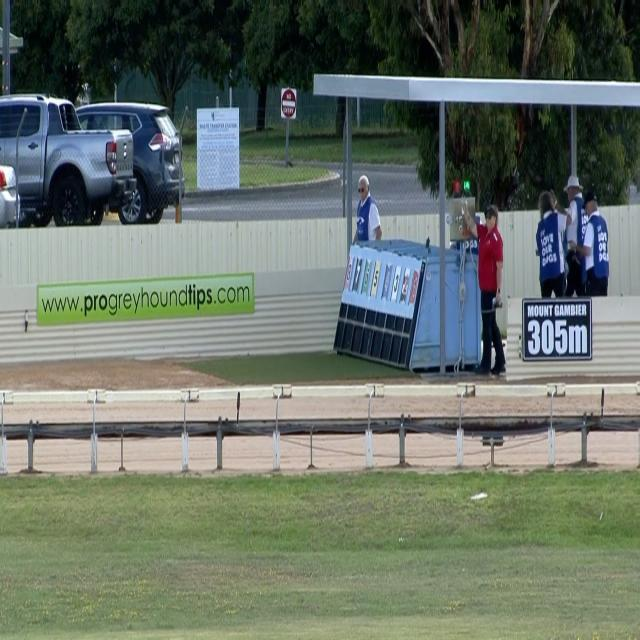rail: (0, 414, 640, 441)
